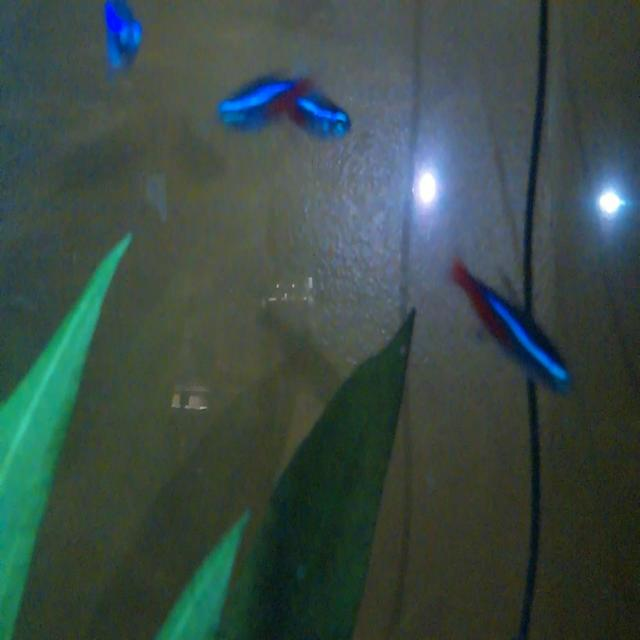fish: (442, 251, 577, 403), (205, 49, 362, 163)
